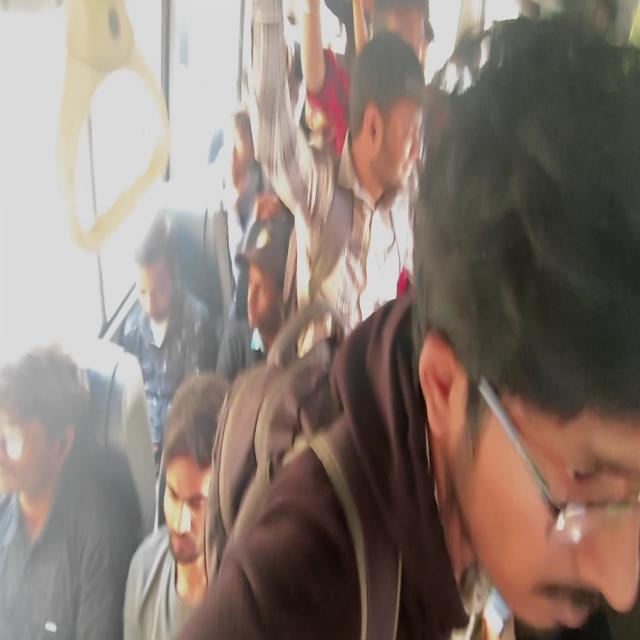person: (174, 13, 639, 637), (411, 14, 639, 636), (249, 1, 427, 360), (1, 344, 142, 639), (203, 334, 340, 590), (122, 370, 230, 638), (116, 213, 219, 473), (216, 210, 295, 381)
